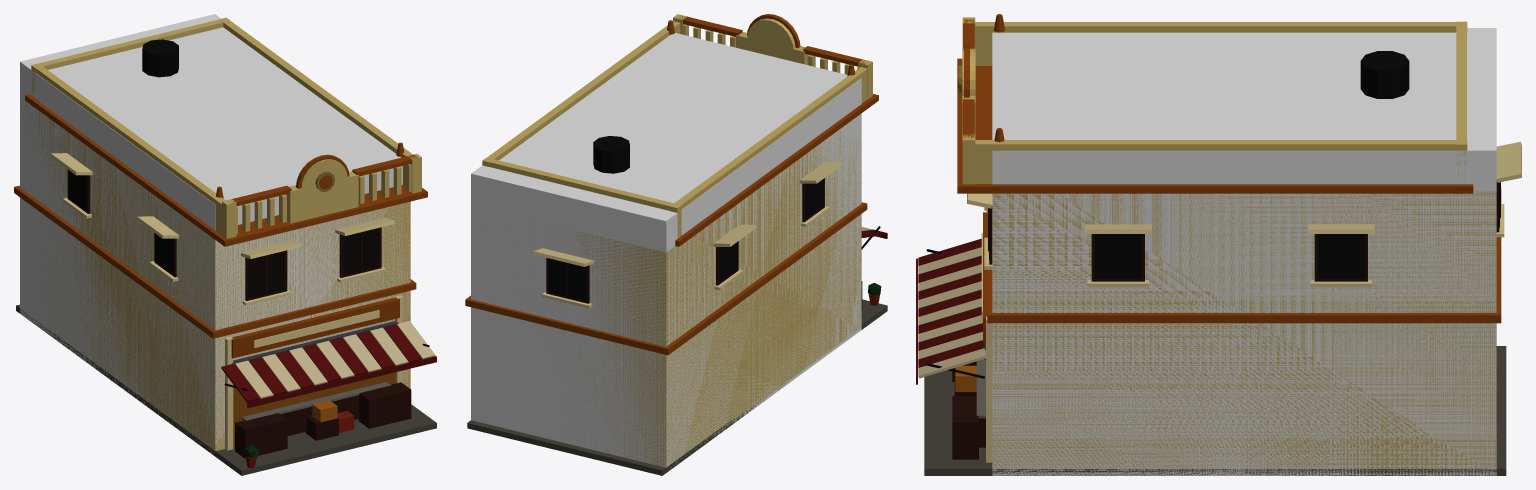
File: B11_street_shop.glb
3 views of the same model, side by side, from view 1: azimuth 30°, elevation 25°; view 2: azimuth 150°, elevation 25°; view 3: azimuth 270°, elevation 25° (orthographic). The views are drawn at different scales.
Visible parts, largest first — view 1: LOD0, COL_Main; view 2: COL_Main, LOD0; view 3: COL_Main, LOD0.
Boxes of the visible parts, x1,y1,x2,y2 form: LOD0: (14, 17, 436, 475); COL_Main: (20, 14, 410, 453); COL_Main: (471, 33, 861, 470); LOD0: (465, 14, 887, 475); COL_Main: (992, 28, 1496, 475); LOD0: (916, 14, 1521, 475).
Size of what is drawn, in the model's own units: 7.05 by 8.33 by 12.49.
